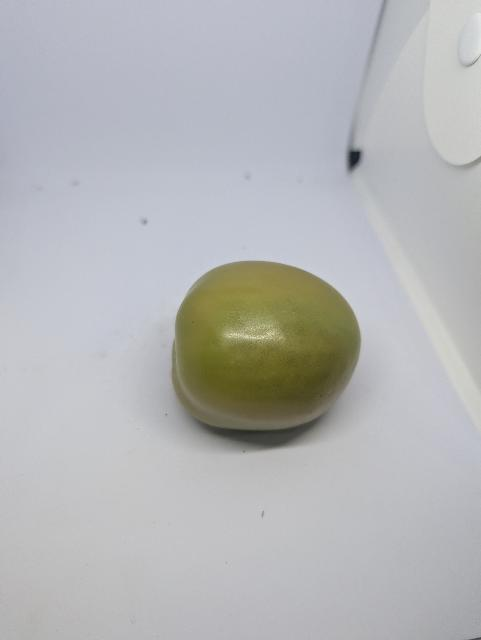green: (159, 251, 384, 448)
